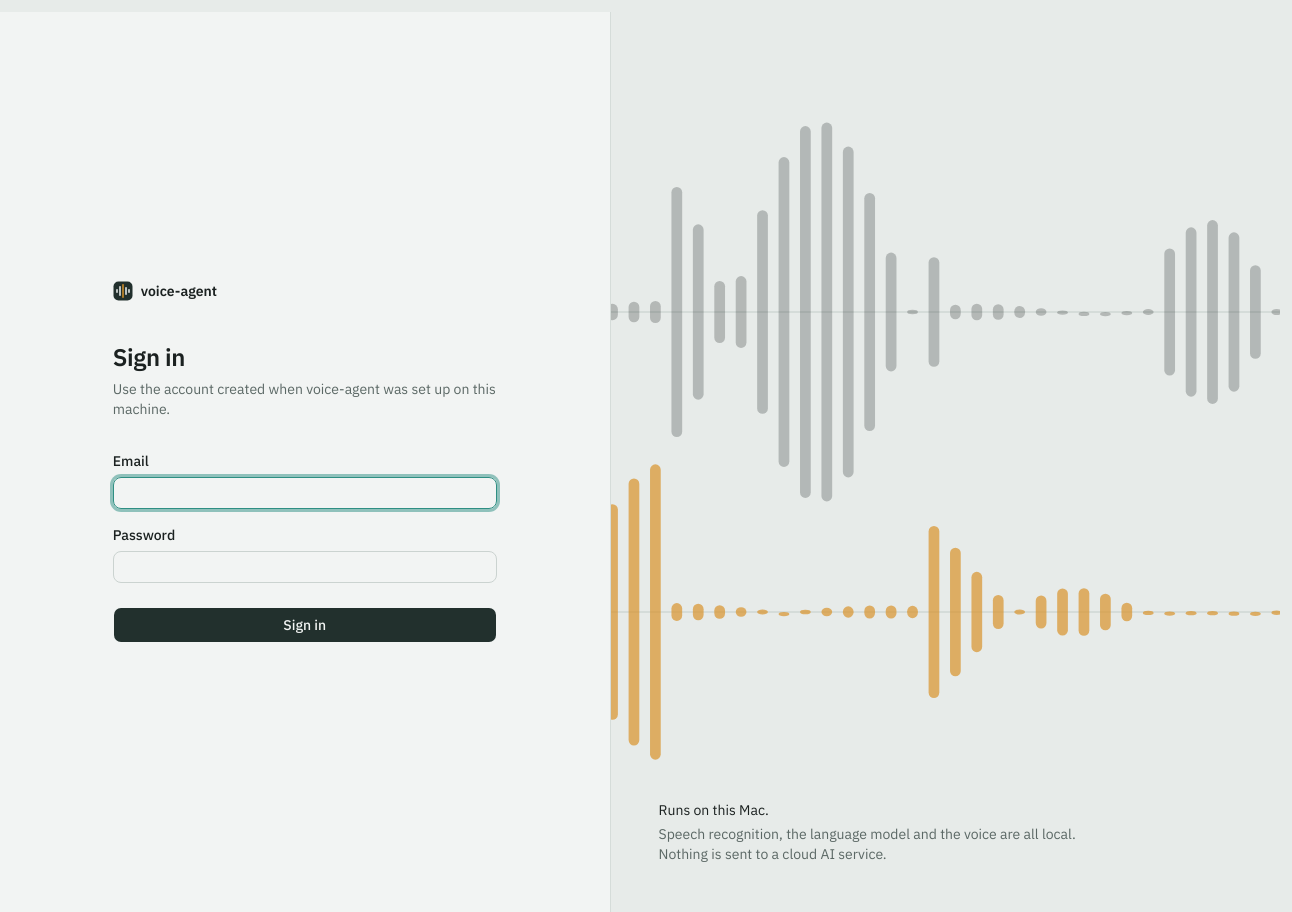
Scenario: LoginPage › shows the server's error message when sign-in fails
The width and height of the screenshot is (1292, 912).
Type "owner@example.com" into the field labelled "Email".
click(305, 493); type("owner@example.com")  # box [113, 477, 497, 509]
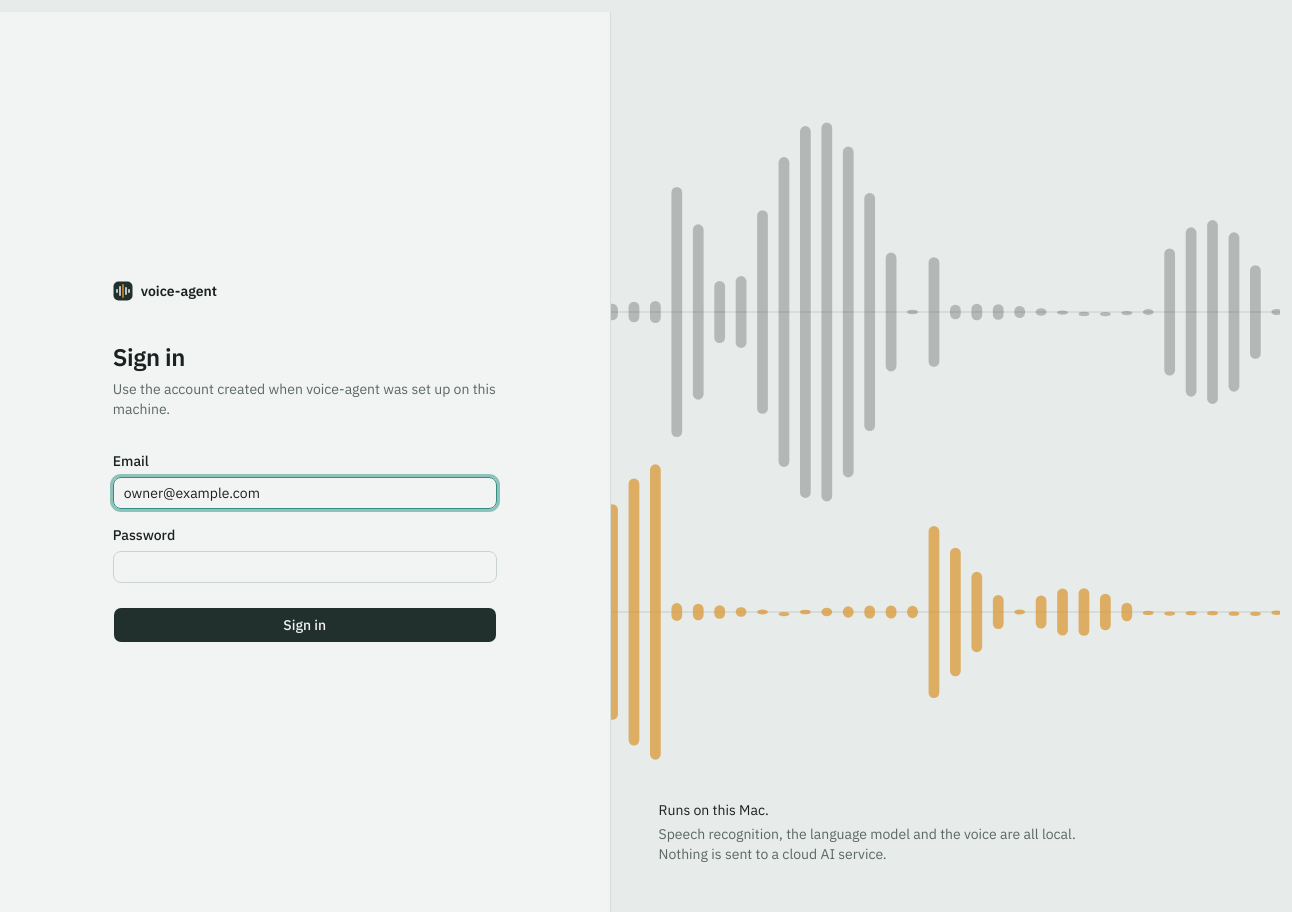
Type "wrong-password" into the password field labelled "Password".
click(305, 567); type("wrong-password")  # box [113, 551, 497, 583]
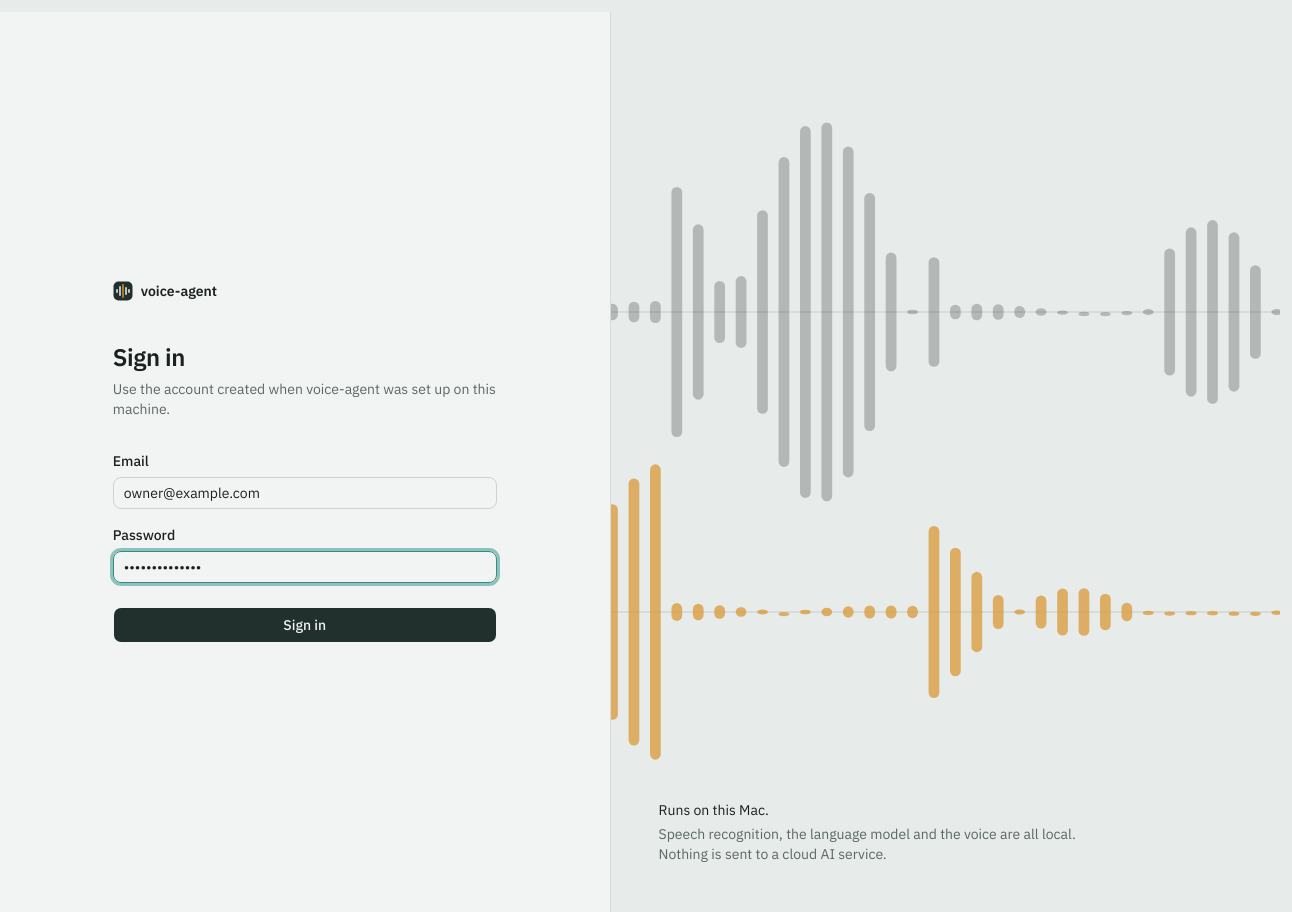
Click the button "Sign in".
click(305, 625)  # box [113, 607, 497, 643]
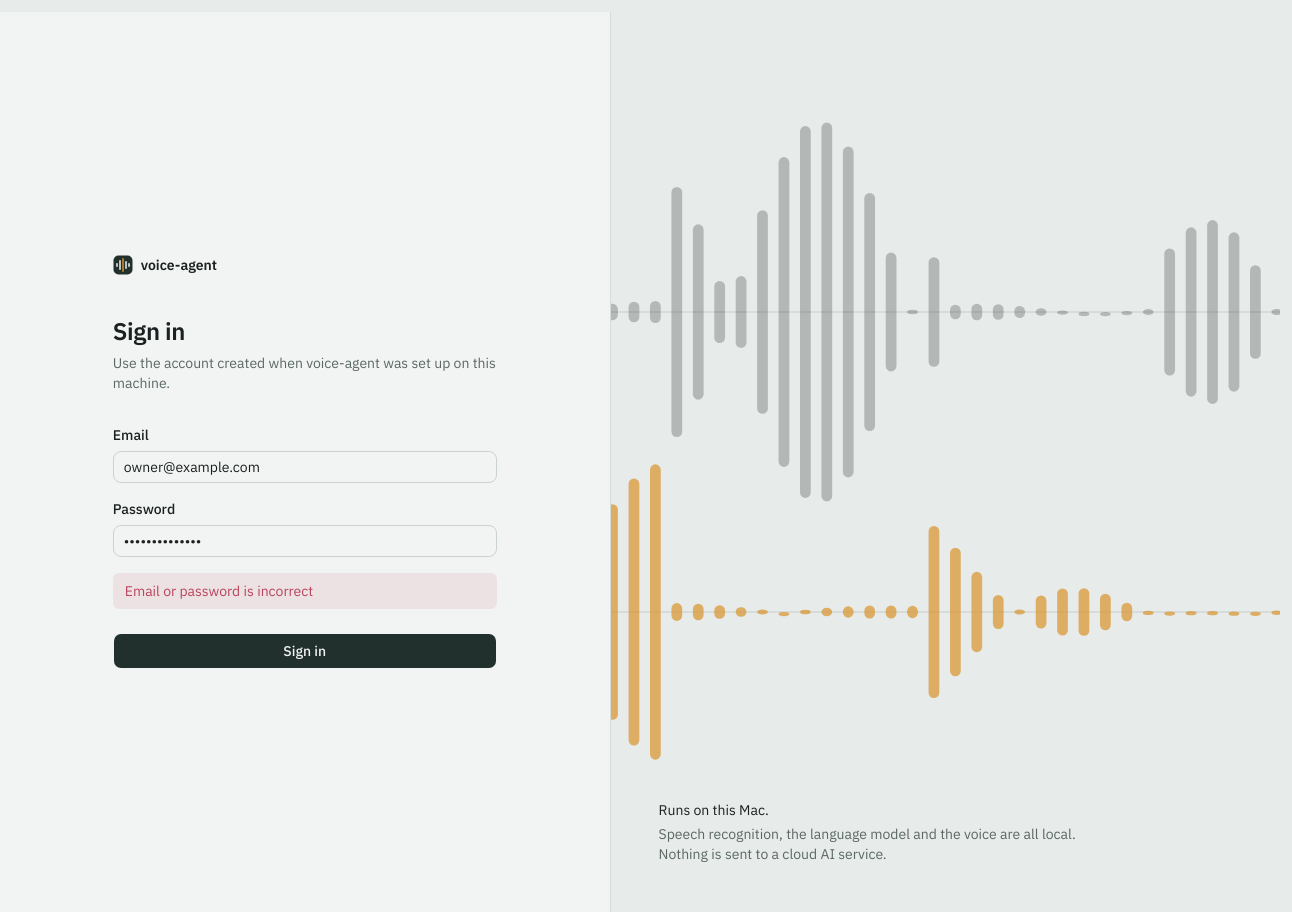
Check: the message reads "Email or password is incorrect", box [125, 582, 313, 600]
